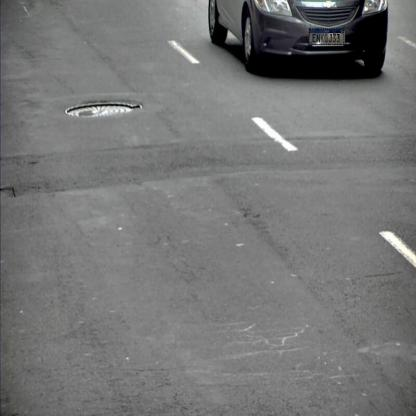PlacaM: (309, 28, 344, 45)
